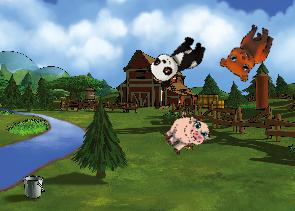bear: (216, 16, 277, 85)
panda: (144, 29, 210, 91)
pig: (158, 106, 214, 161)
